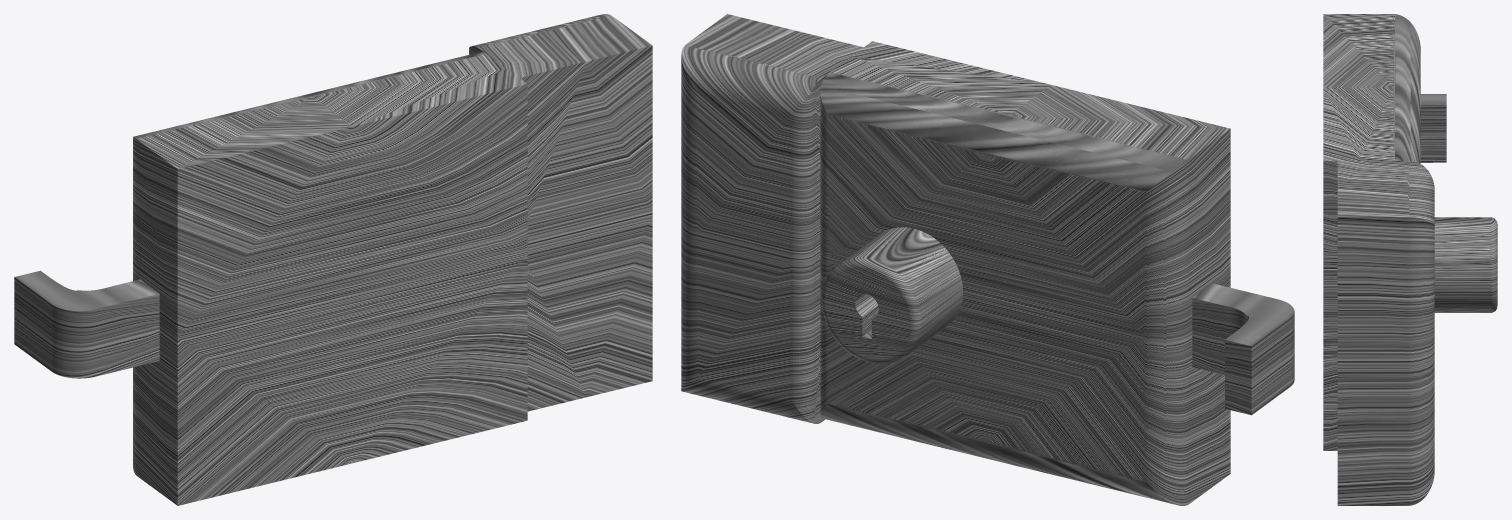
Rendered from llavin.dae.
The picture shows the model from 3 angles, left to right: view 1: azimuth 30°, elevation 25°; view 2: azimuth 150°, elevation 25°; view 3: azimuth 270°, elevation 25°; orthographic projection. The views are drawn at different scales.
Parts seen in each view (by area): view 1: node; view 2: node; view 3: node.
Boxes of the visible parts, x1,y1,x2,y2 form: node: (14, 14, 652, 505); node: (681, 14, 1294, 505); node: (1323, 14, 1497, 505).
Size of the model in its own units: 208 by 116 by 63.34.
Materials: 1 (1 with a texture image).
